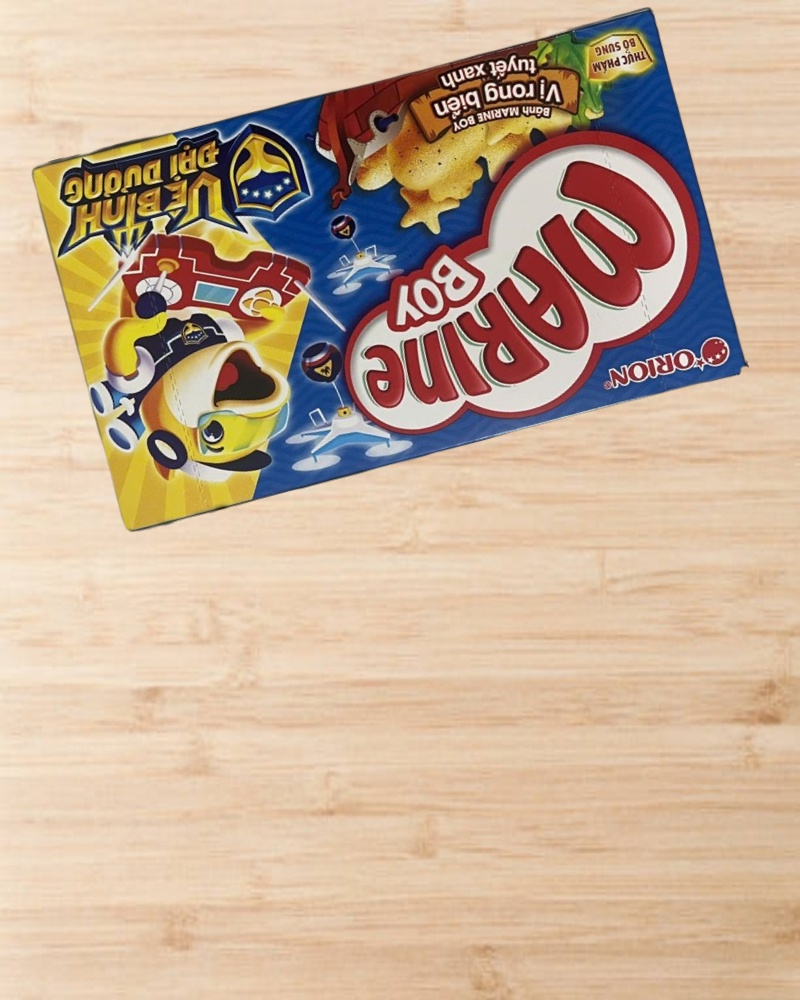Marine: (28, 2, 750, 538)
